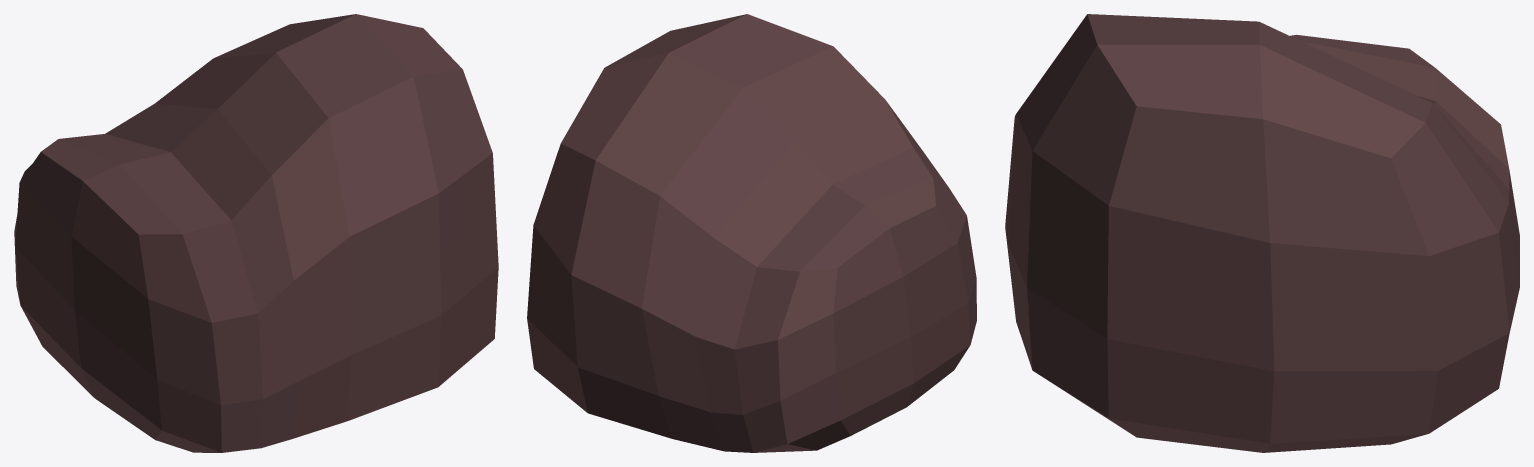
The model's file is stone1.glb.
The picture shows the model from 3 angles, left to right: view 1: azimuth 30°, elevation 25°; view 2: azimuth 150°, elevation 25°; view 3: azimuth 270°, elevation 25°; orthographic projection. The views are drawn at different scales.
Parts seen in each view (by area): view 1: stone1; view 2: stone1; view 3: stone1.
Boxes of the visible parts, x1,y1,x2,y2 form: stone1: (14, 14, 498, 452); stone1: (527, 14, 976, 452); stone1: (1005, 14, 1519, 452).
Size of the model in its own units: 1.91 by 1.61 by 1.97.
